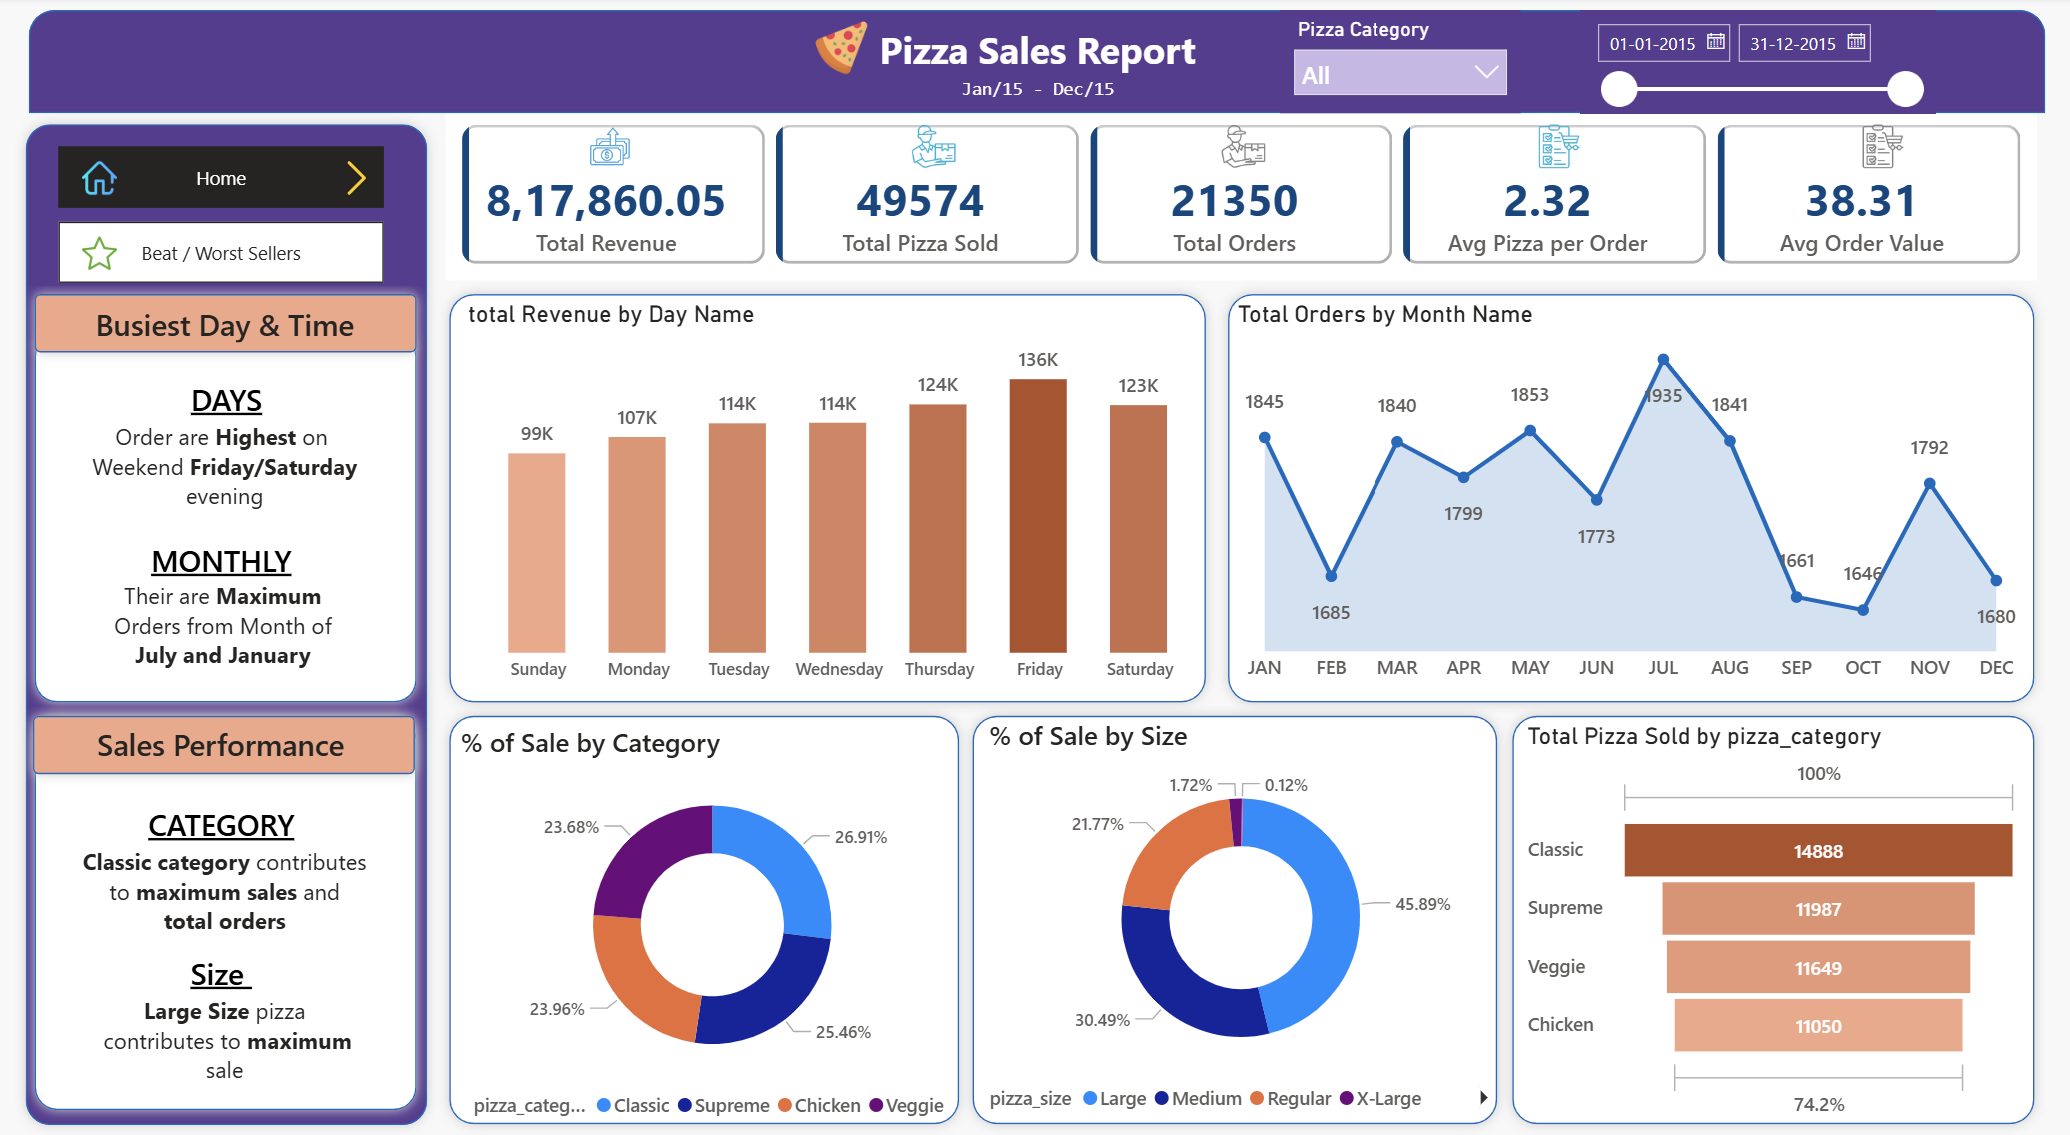

This screenshot's page, from the dashboard's own definition file:
{"tool":"powerbi","page":{"name":"Home","canvas":[1500,820],"ordinal":0},"visuals":[{"type":"cardVisual","fields":{"Data":["pizza_sales.total Revenue","pizza_sales.Total Pizza Sold","pizza_sales.Total Orders","pizza_sales.Avg Pizza per Order","pizza_sales.AOV"]},"box":[316,75.5,1157.1,134.7],"z":0},{"type":"shape","box":[21.4,10.1,1451.7,74.3],"z":1000},{"type":"textbox","box":[622,15.1,250.6,49.1],"z":2000},{"type":"textbox","box":[687.4,51.6,120.9,31.5],"z":3000},{"type":"image","box":[586.7,16.4,39,41.5],"z":4000},{"type":"image","box":[413,91.9,52.9,32.7],"z":5000},{"type":"image","box":[645.9,91.9,52.9,32.7],"z":6000},{"type":"image","box":[868.7,91.9,52.9,32.7],"z":7000},{"type":"image","box":[1096.6,91.9,52.9,32.7],"z":8000},{"type":"image","box":[1329.6,91.9,52.9,32.7],"z":9000},{"type":"shape","box":[316,206.5,560.3,309.7],"z":10000},{"type":"clusteredColumnChart","fields":{"Y":["pizza_sales.total Revenue"],"Category":["pizza_sales.Day Name"]},"box":[332.4,219.1,543.9,283.3],"z":11000},{"type":"shape","box":[876.3,206.5,596.8,309.7],"z":12000},{"type":"lineChart","fields":{"Category":["pizza_sales.Month Name"],"Y":["pizza_sales.Total Orders"]},"box":[886.4,219.1,575.4,283.3],"z":13000},{"type":"shape","box":[316,509.9,382.8,309.7],"z":14000},{"type":"shape","box":[692.5,509.9,394.1,309.7],"z":15000},{"type":"shape","box":[1081.5,509.9,391.6,309.7],"z":16000},{"type":"donutChart","title":"% of Sale by Category","fields":{"Category":["pizza_sales.pizza_category"],"Y":["pizza_sales.total Revenue"]},"box":[327.4,523.8,371.4,293.4],"z":17000},{"type":"donutChart","title":"% of Sale by Size","fields":{"Y":["pizza_sales.total Revenue"],"Category":["pizza_sales.pizza_size"]},"box":[707.6,518.7,371.4,293.4],"z":18000},{"type":"funnel","fields":{"Category":["pizza_sales.pizza_category"],"Y":["pizza_sales.Total Pizza Sold"]},"box":[1095.4,522.5,363.9,290.8],"z":19000},{"type":"shape","box":[11.3,84.4,304.7,736],"z":20000},{"type":"shape","box":[17.6,509.9,290.8,299.7],"z":21000},{"type":"shape","box":[17.6,235.4,290.8,280.8],"z":22000},{"type":"shape","box":[17.6,206.5,290.8,57.9],"z":23000},{"type":"textbox","box":[56.7,216.6,211.5,37.8],"z":24000},{"type":"textbox","box":[57.9,270.7,211.5,39],"z":25000},{"type":"textbox","box":[54.1,300.9,216.6,79.3],"z":26000},{"type":"textbox","box":[54.1,386.5,211.5,39],"z":27000},{"type":"textbox","box":[52.9,415.5,216.6,79.3],"z":28000},{"type":"shape","box":[16.4,509.9,290.8,57.9],"z":29000},{"type":"textbox","box":[56.7,518.7,211.5,37.8],"z":30000},{"type":"textbox","box":[54.1,576.6,211.5,39],"z":31000},{"type":"textbox","box":[54.1,606.9,216.6,79.3],"z":32000},{"type":"textbox","box":[54.1,683.7,211.5,39],"z":33000},{"type":"textbox","box":[54.1,713.9,216.6,79.3],"z":34000},{"type":"slicer","fields":{"Values":["pizza_sales.pizza_category"]},"box":[921.6,10.1,173.7,74.3],"z":35000},{"type":"slicer","fields":{"Values":["pizza_sales.order_date"]},"box":[1138.2,10.1,255.6,74.3],"z":36000},{"type":"pageNavigator","box":[42.8,108.3,234.2,44.1],"z":36001},{"type":"pageNavigator","box":[42.8,162.4,234.2,44.1],"z":36002},{"type":"image","box":[238,118.4,39,25.2],"z":36003},{"type":"image","box":[52.9,118.4,39,25.2],"z":36004},{"type":"image","box":[52.9,172.5,39,25.2],"z":36005}]}

Visuals, with their boxes in screenshot pixels (x1, y1, x2, y2), scaled from the page's 1500x820 canvas onto the 2070x1135 screenshot:
cardVisual - pizza_sales.total Revenue x pizza_sales.Total Pizza Sold: bbox(436, 105, 2033, 291)
shape: bbox(30, 14, 2033, 117)
textbox: bbox(858, 21, 1204, 89)
textbox: bbox(949, 71, 1115, 115)
image: bbox(810, 23, 863, 80)
image: bbox(570, 127, 643, 172)
image: bbox(891, 127, 964, 172)
image: bbox(1199, 127, 1272, 172)
image: bbox(1513, 127, 1586, 172)
image: bbox(1835, 127, 1908, 172)
shape: bbox(436, 286, 1209, 714)
clusteredColumnChart - pizza_sales.total Revenue x pizza_sales.Day Name: bbox(459, 303, 1209, 695)
shape: bbox(1209, 286, 2033, 714)
lineChart - pizza_sales.Month Name x pizza_sales.Total Orders: bbox(1223, 303, 2017, 695)
shape: bbox(436, 706, 964, 1134)
shape: bbox(956, 706, 1500, 1134)
shape: bbox(1492, 706, 2033, 1134)
"% of Sale by Category" donutChart: bbox(452, 725, 964, 1131)
"% of Sale by Size" donutChart: bbox(976, 718, 1489, 1124)
funnel - pizza_sales.pizza_category x pizza_sales.Total Pizza Sold: bbox(1512, 723, 2014, 1126)
shape: bbox(16, 117, 436, 1134)
shape: bbox(24, 706, 426, 1121)
shape: bbox(24, 326, 426, 714)
shape: bbox(24, 286, 426, 366)
textbox: bbox(78, 300, 370, 352)
textbox: bbox(80, 375, 372, 429)
textbox: bbox(75, 416, 374, 526)
textbox: bbox(75, 535, 367, 589)
textbox: bbox(73, 575, 372, 685)
shape: bbox(23, 706, 424, 786)
textbox: bbox(78, 718, 370, 770)
textbox: bbox(75, 798, 367, 852)
textbox: bbox(75, 840, 374, 950)
textbox: bbox(75, 946, 367, 1000)
textbox: bbox(75, 988, 374, 1098)
slicer - pizza_sales.pizza_category: bbox(1272, 14, 1512, 117)
slicer - pizza_sales.order_date: bbox(1571, 14, 1923, 117)
pageNavigator: bbox(59, 150, 382, 211)
pageNavigator: bbox(59, 225, 382, 286)
image: bbox(328, 164, 382, 199)
image: bbox(73, 164, 127, 199)
image: bbox(73, 239, 127, 274)
